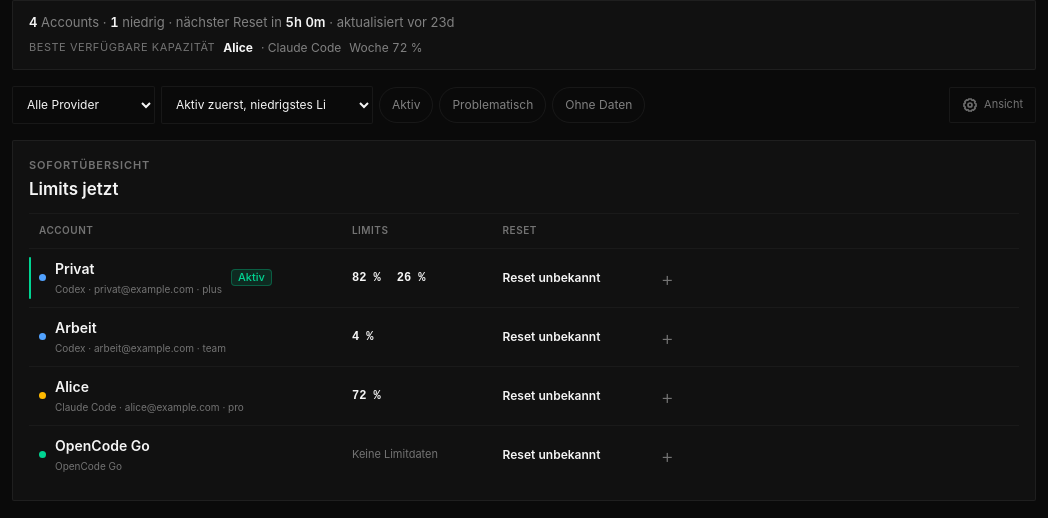
Test: UsageOverview › filtert nach aktivem Account
Click the button with aria-label "Nur aktiv". click: (406, 104)
box: left=379, top=86, right=434, bottom=122
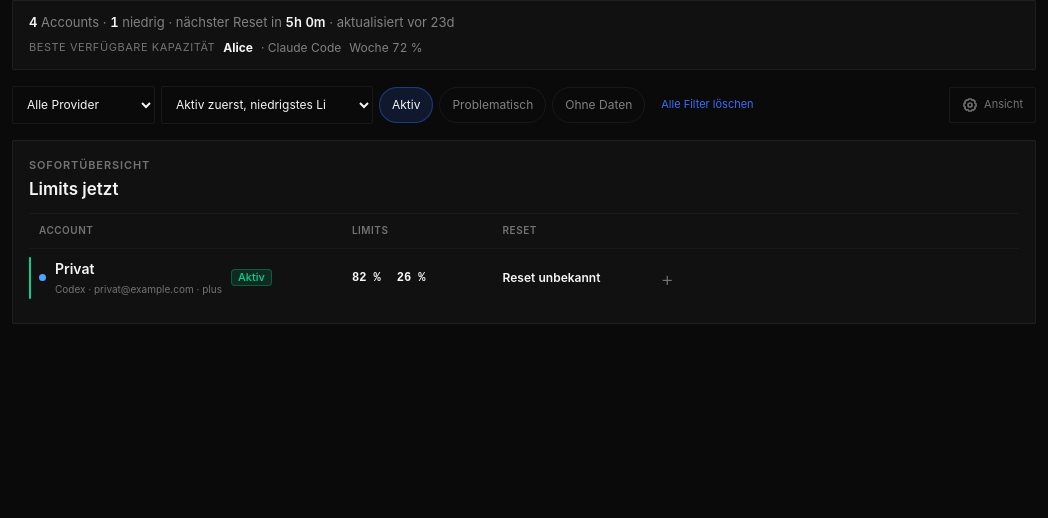
Expected: the text "Privat" is shown, left=55, top=260, right=94, bottom=277
Expected: the button "Arbeit" is gone
